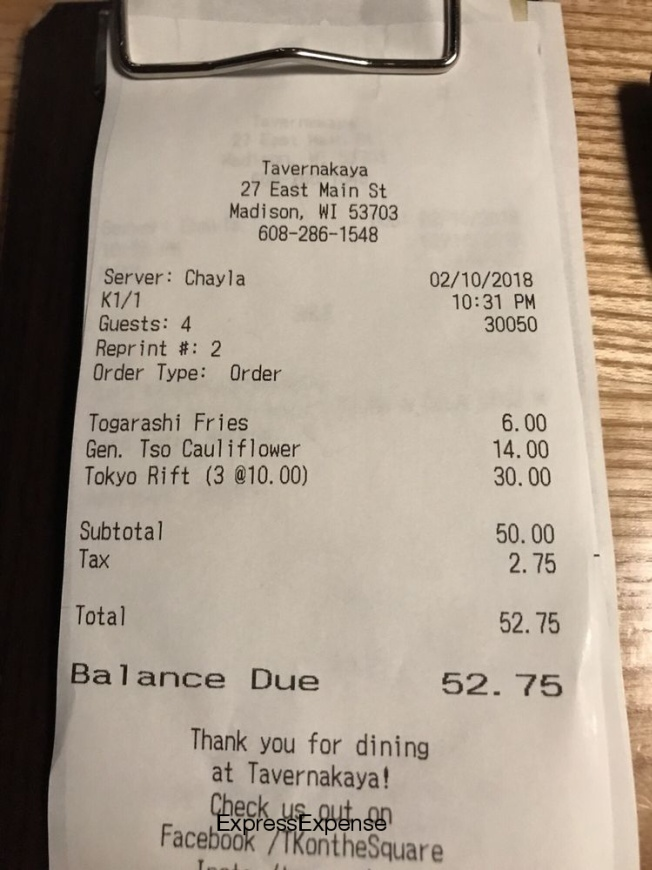Additional details: (139, 705, 467, 859)
Purchase summary: (65, 254, 603, 706)
Receipt: (49, 87, 619, 866)
Shop details: (224, 149, 408, 257)
